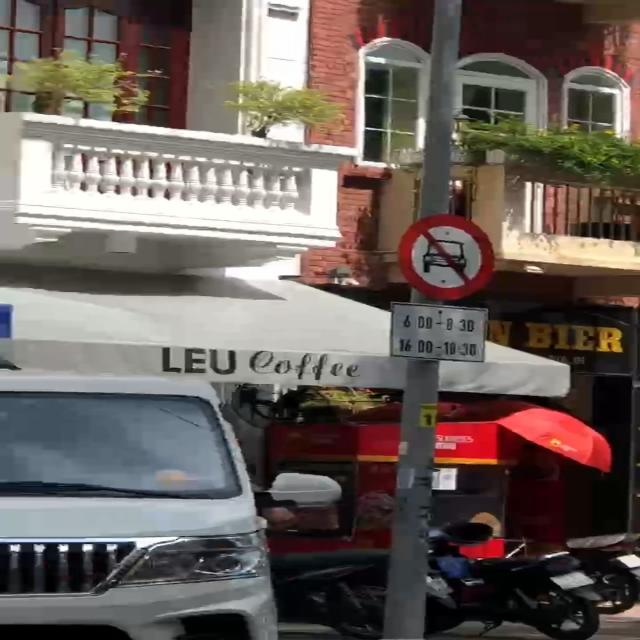Bien bao cam xe oto: (383, 203, 510, 300)
